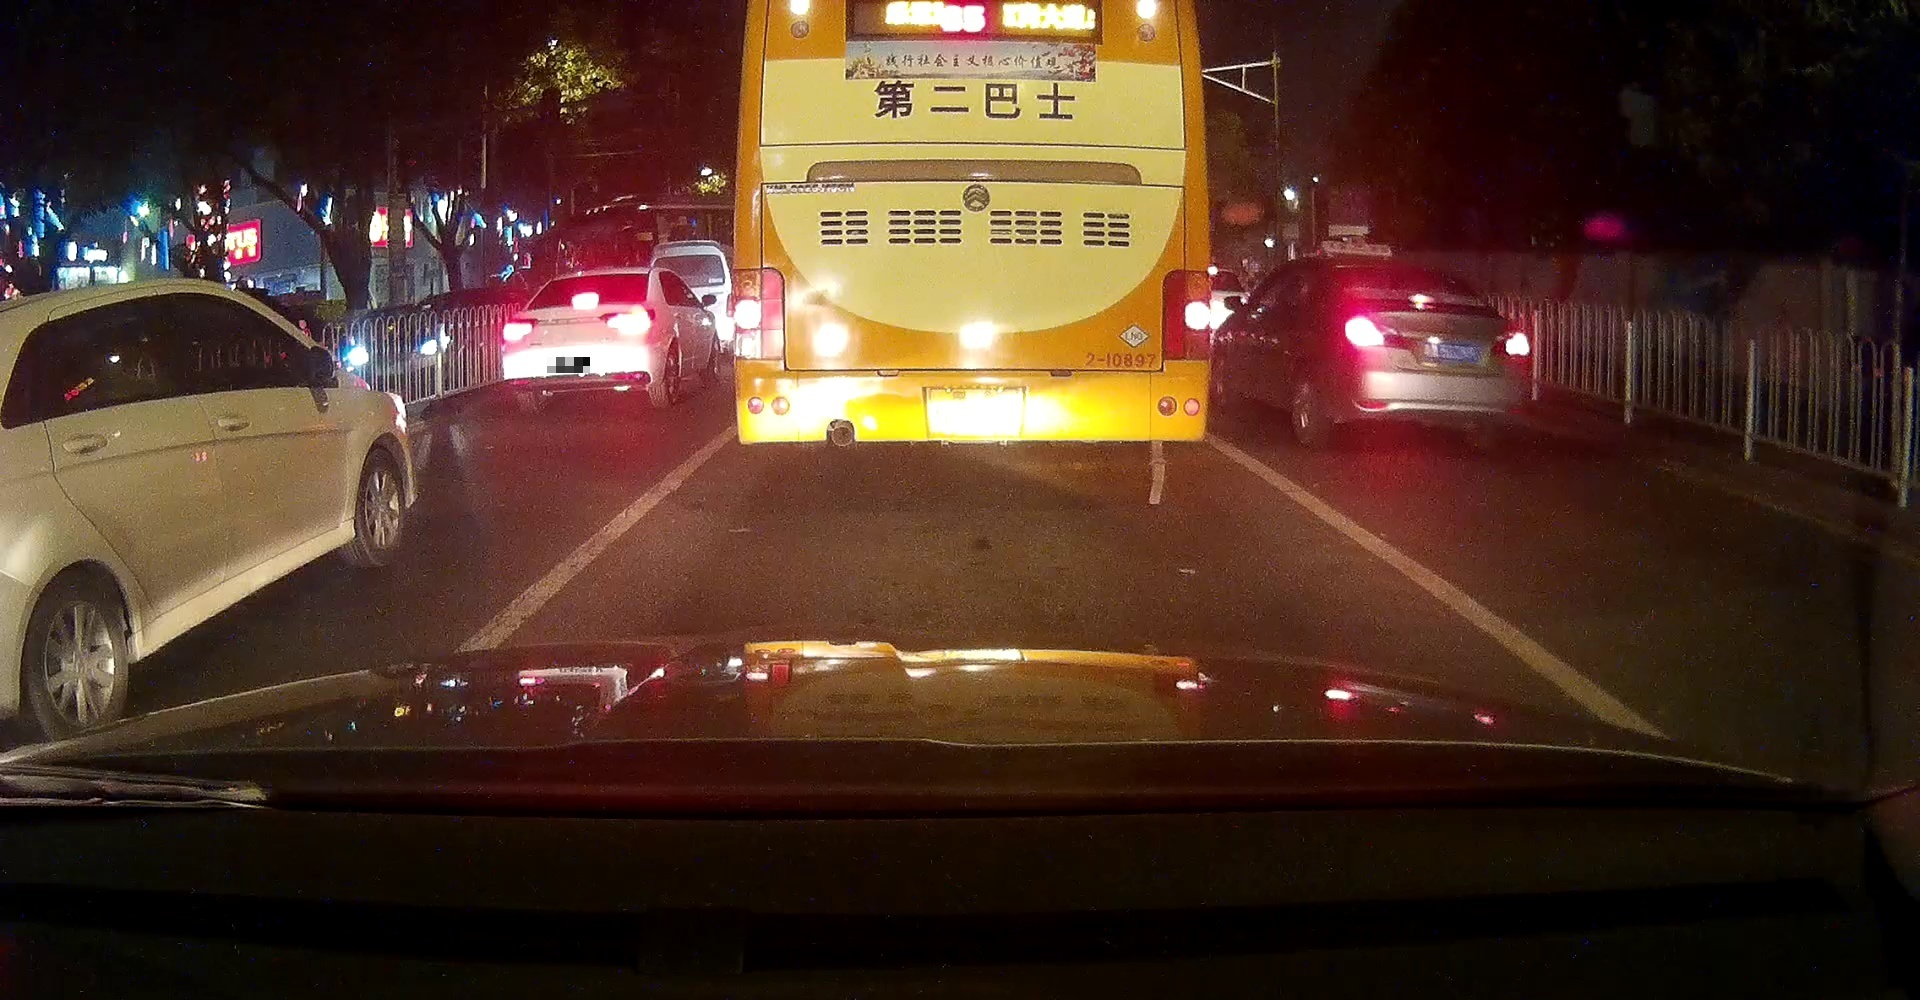L_light: (1342, 312, 1415, 352), (500, 315, 538, 344)
R_light: (599, 306, 654, 338), (1491, 329, 1531, 360)
T_light: (570, 291, 599, 311), (1406, 292, 1436, 305)
night-brake: (1308, 249, 1534, 451), (499, 266, 658, 410)
plate_1: (547, 357, 590, 373)
